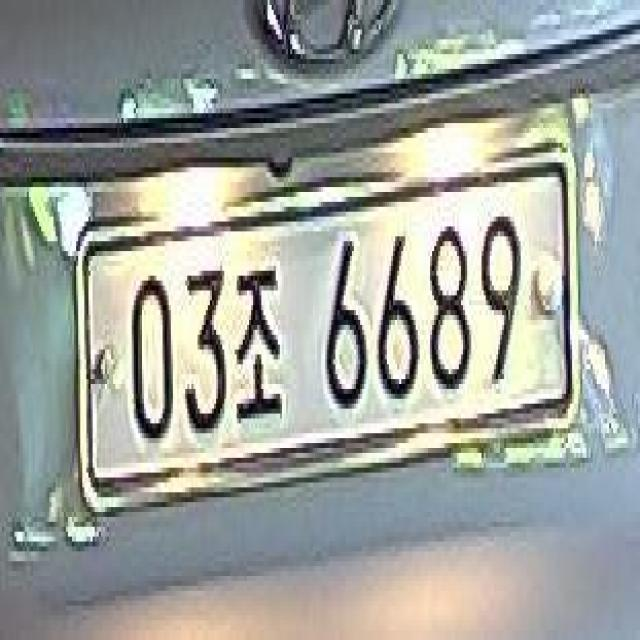illegal_plate: (84, 150, 576, 505)
